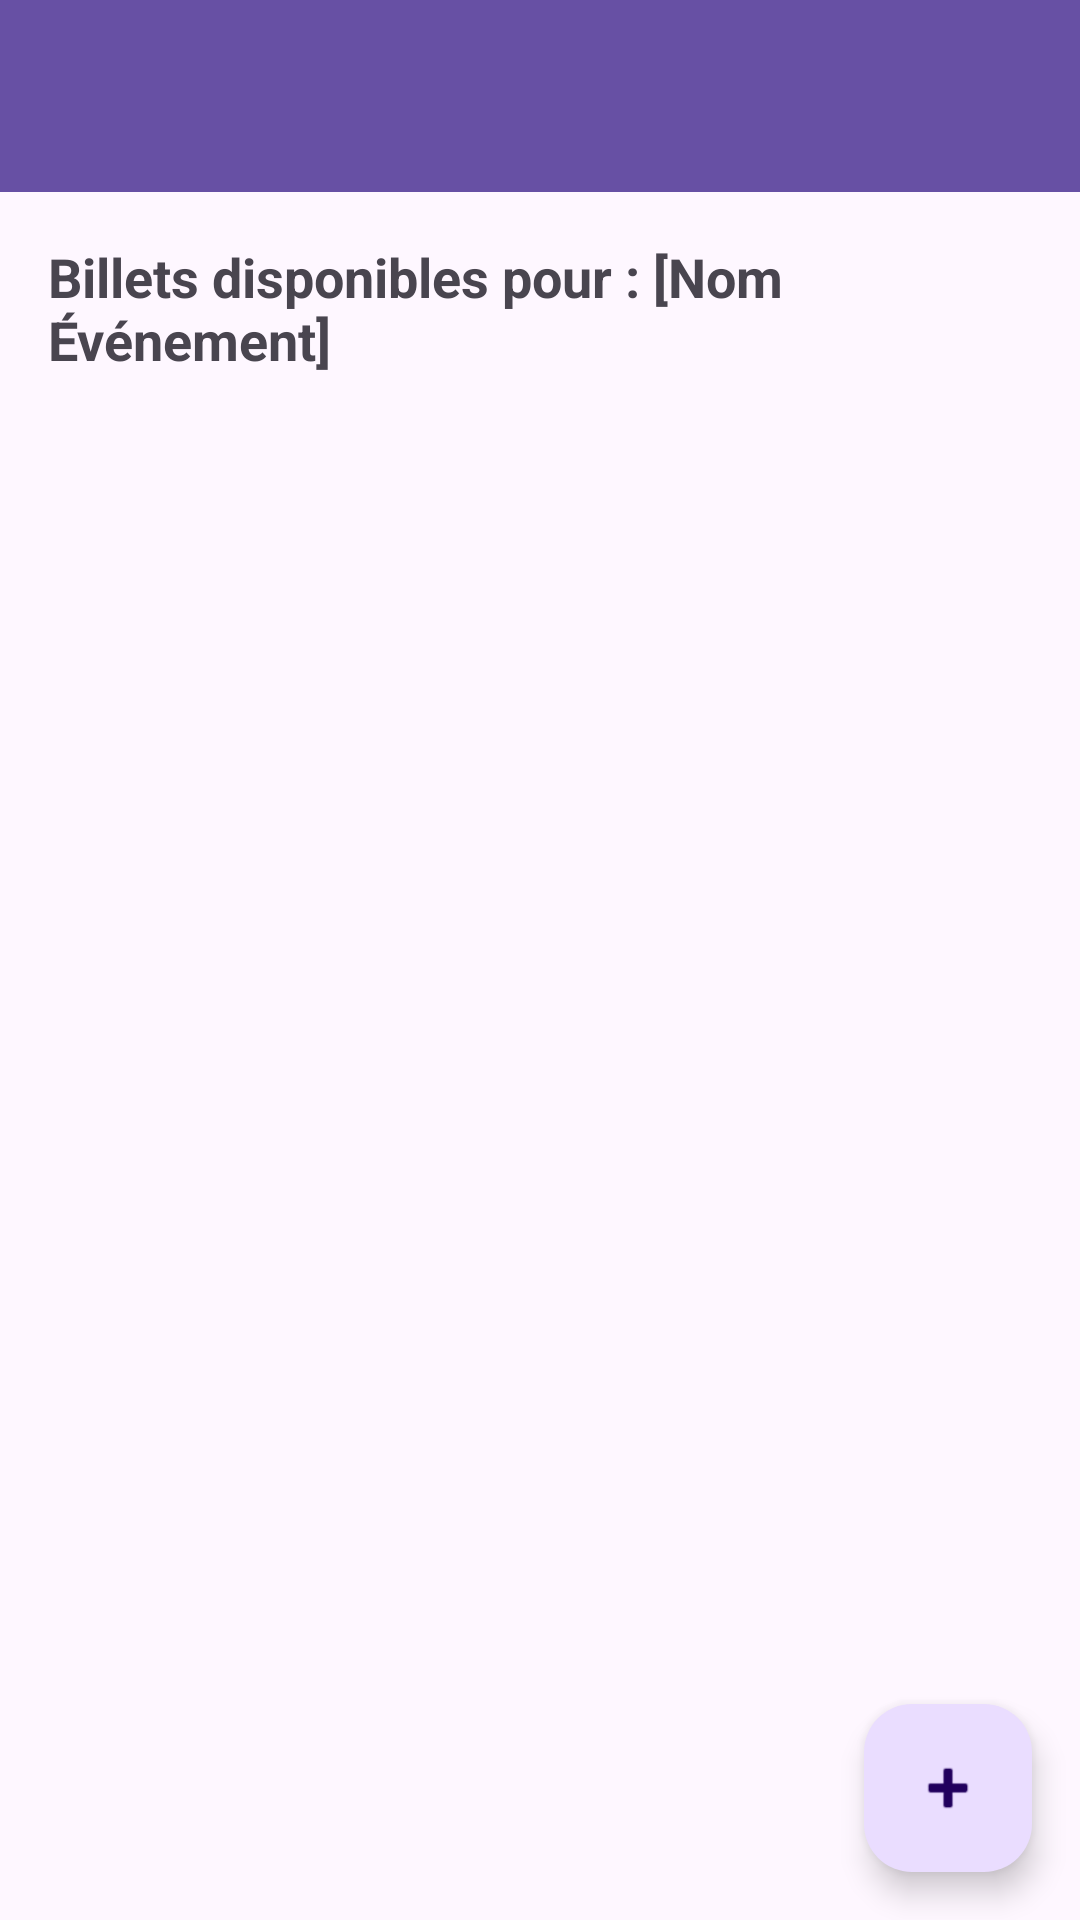

Where icons sit on this 1080w x 1920h app screen, as box(x1, y1, x2, y2):
Ajouter un nouveau billet: box(864, 1704, 1032, 1872)
